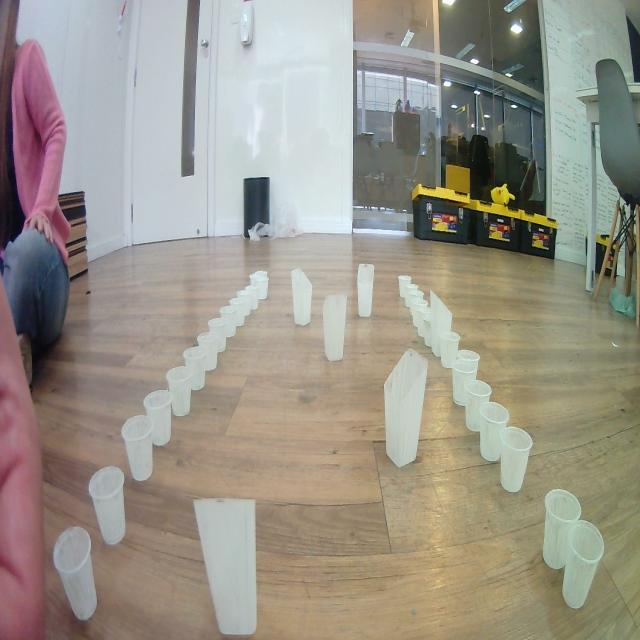erva_daninha: (193, 497, 259, 637), (384, 348, 428, 469), (322, 294, 348, 361), (430, 290, 453, 358), (291, 268, 313, 326), (357, 263, 375, 318)
planta: (52, 526, 98, 621), (562, 520, 604, 610), (542, 488, 582, 572), (88, 466, 126, 546), (499, 426, 534, 494), (121, 415, 154, 483), (479, 401, 510, 463), (143, 390, 172, 448), (464, 379, 492, 433), (166, 366, 193, 417), (452, 358, 477, 406), (183, 346, 207, 391), (197, 332, 218, 372), (440, 331, 460, 369), (456, 349, 481, 376), (208, 318, 226, 353), (220, 306, 238, 338), (229, 297, 246, 327), (410, 298, 430, 321), (412, 304, 431, 328), (249, 270, 267, 294), (416, 311, 432, 337), (237, 289, 252, 316), (408, 290, 424, 313), (245, 284, 259, 310), (404, 283, 418, 307), (398, 275, 412, 298), (423, 318, 433, 348), (256, 278, 269, 300)
